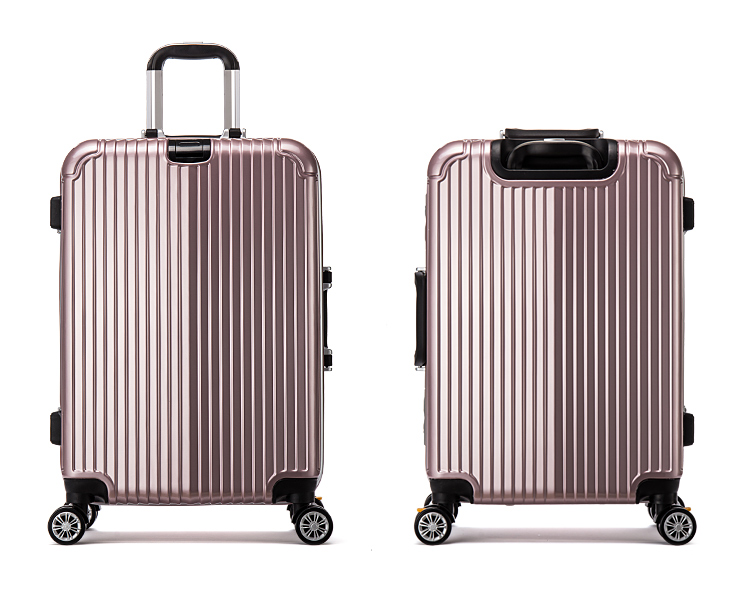suitcase: (43, 41, 337, 547), (413, 127, 698, 547)
